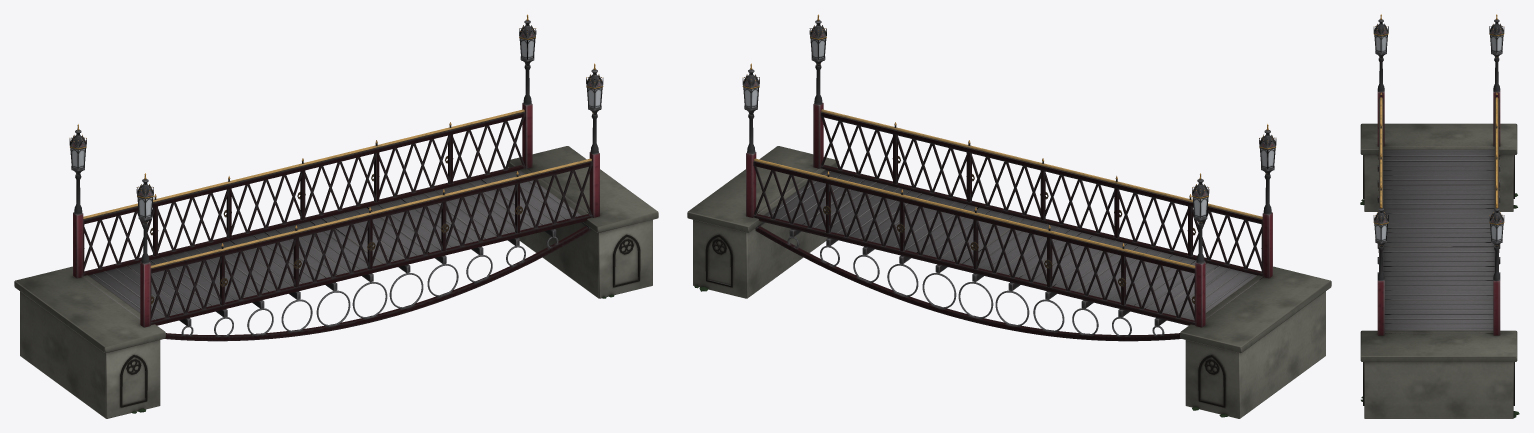
The model's file is BridgeIron.fbx.
3 renders of one model, left to right at view 1: azimuth 30°, elevation 25°; view 2: azimuth 150°, elevation 25°; view 3: azimuth 270°, elevation 25°, orthographic. The views are drawn at different scales.
Visible parts, largest first — view 1: BridgeIron_Main, BridgeIron_Girders, BridgeIron_Glass; view 2: BridgeIron_Main, BridgeIron_Girders, BridgeIron_Glass; view 3: BridgeIron_Main, BridgeIron_Girders, BridgeIron_Glass.
Part boxes in pixels (bbox=[...]): BridgeIron_Main: bbox=[14, 14, 658, 418]; BridgeIron_Girders: bbox=[83, 109, 592, 341]; BridgeIron_Glass: bbox=[71, 39, 601, 217]; BridgeIron_Main: bbox=[687, 14, 1331, 418]; BridgeIron_Girders: bbox=[753, 109, 1262, 341]; BridgeIron_Glass: bbox=[744, 39, 1274, 217]; BridgeIron_Main: bbox=[1360, 14, 1519, 418]; BridgeIron_Girders: bbox=[1378, 92, 1499, 272]; BridgeIron_Glass: bbox=[1375, 35, 1502, 241].
Size of the model in its own units: 2430 by 957 by 704.
